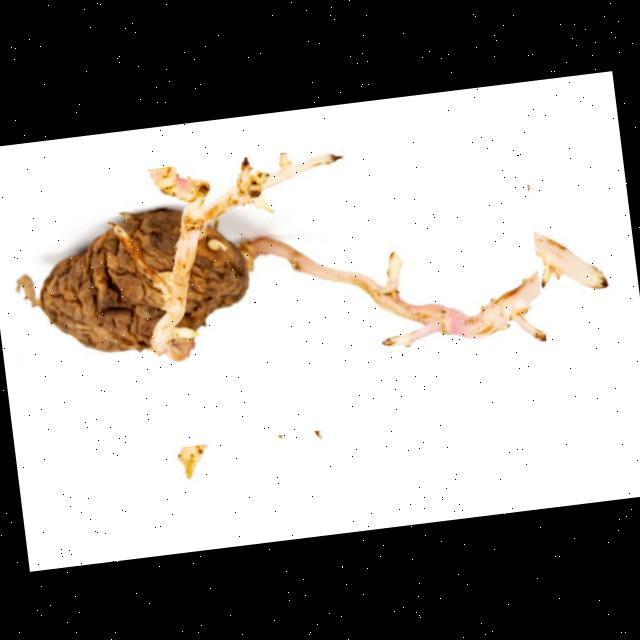Sprouted potato: (0, 122, 552, 464)
